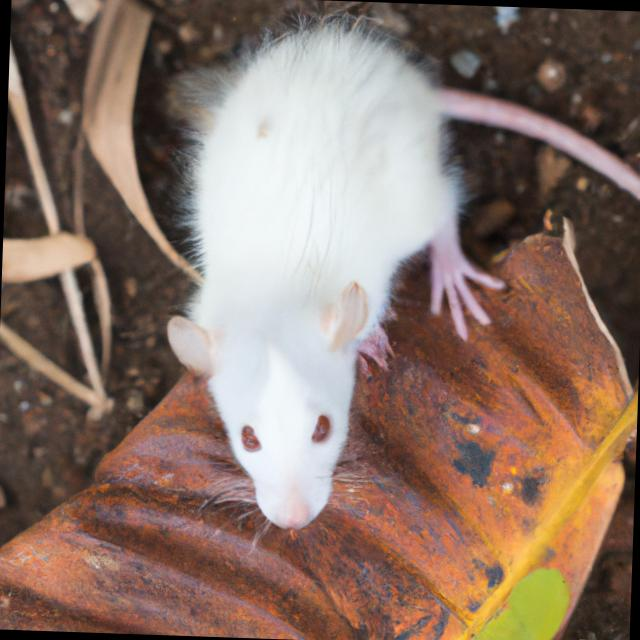rodents: (152, 4, 501, 556)
